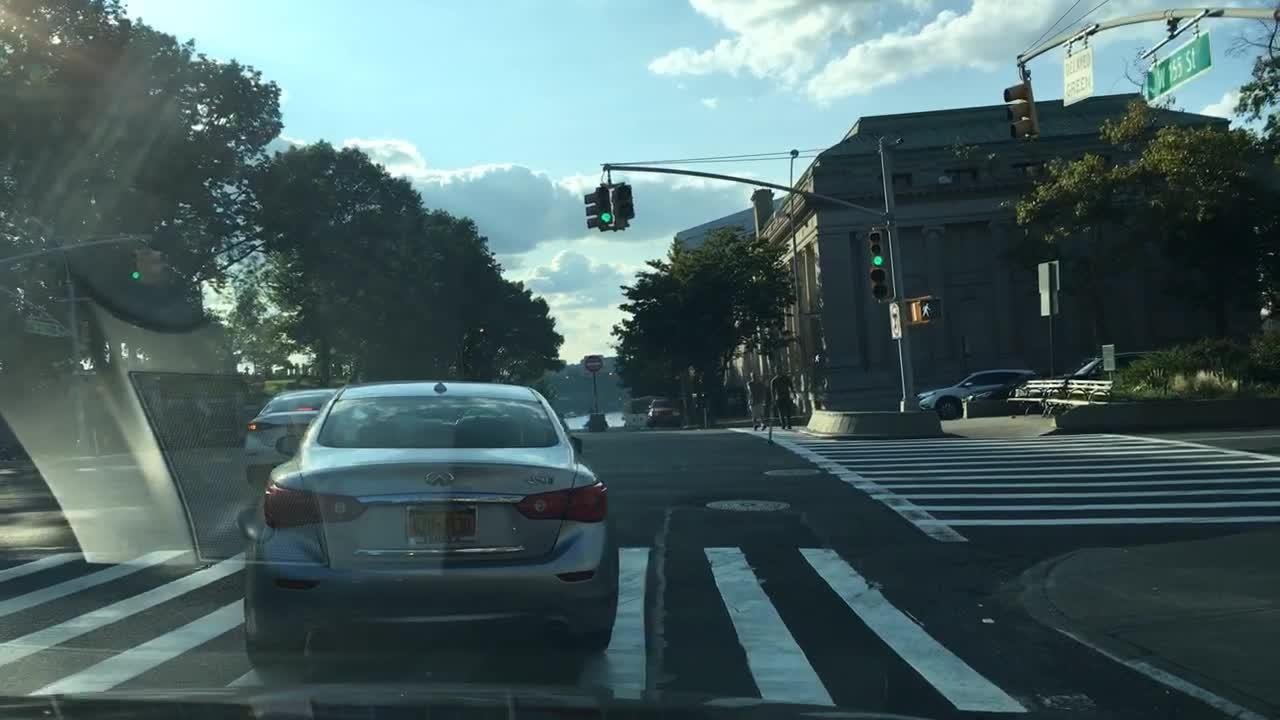Infiniti: (419, 466, 464, 490)
